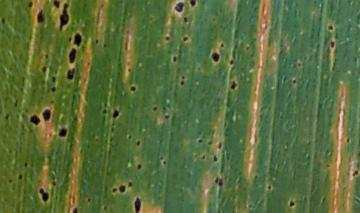tarspot: (57, 1, 75, 31), (66, 47, 79, 66), (41, 106, 53, 124), (37, 186, 50, 202), (208, 49, 221, 64), (133, 196, 143, 213), (172, 1, 185, 14), (36, 8, 45, 26), (57, 126, 69, 139), (28, 114, 41, 126), (72, 32, 83, 46), (66, 67, 75, 81), (109, 109, 120, 119), (51, 1, 62, 11), (229, 79, 238, 90), (98, 107, 109, 116), (179, 34, 191, 42), (170, 53, 178, 65), (118, 184, 127, 194), (213, 176, 222, 186), (11, 96, 21, 105), (287, 198, 295, 209), (328, 39, 336, 50), (326, 23, 334, 34), (228, 56, 236, 67), (218, 40, 226, 51), (188, 1, 197, 9), (47, 85, 56, 93), (43, 52, 51, 61), (65, 35, 73, 44), (216, 140, 222, 151), (41, 64, 47, 75), (351, 169, 359, 177), (129, 85, 137, 93), (70, 206, 79, 213), (151, 104, 158, 113), (25, 1, 34, 8), (212, 153, 218, 163), (182, 15, 189, 23), (49, 76, 57, 83), (265, 183, 272, 191), (290, 77, 297, 85), (295, 59, 302, 67), (244, 44, 251, 52), (1, 16, 7, 25), (125, 67, 134, 73), (163, 35, 170, 42), (3, 113, 10, 120), (163, 113, 170, 120), (110, 187, 118, 193), (127, 179, 133, 187), (101, 203, 107, 211), (135, 139, 141, 146), (93, 37, 99, 44), (252, 174, 259, 180), (209, 16, 216, 22), (207, 139, 212, 147), (201, 153, 206, 161), (127, 134, 133, 140), (197, 138, 203, 144), (85, 196, 91, 202), (101, 42, 107, 48), (325, 163, 331, 169), (178, 81, 185, 86), (23, 160, 28, 167), (17, 173, 22, 180), (7, 178, 12, 185), (345, 137, 350, 143), (137, 163, 141, 170), (180, 75, 185, 80), (162, 160, 166, 165), (160, 156, 164, 161)
